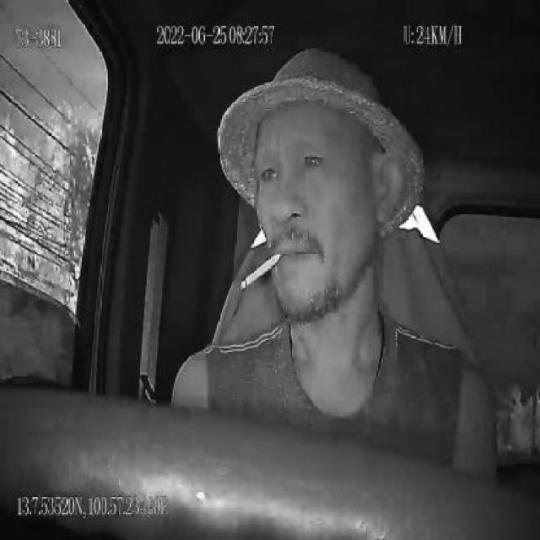smoking: (240, 252, 281, 292)
